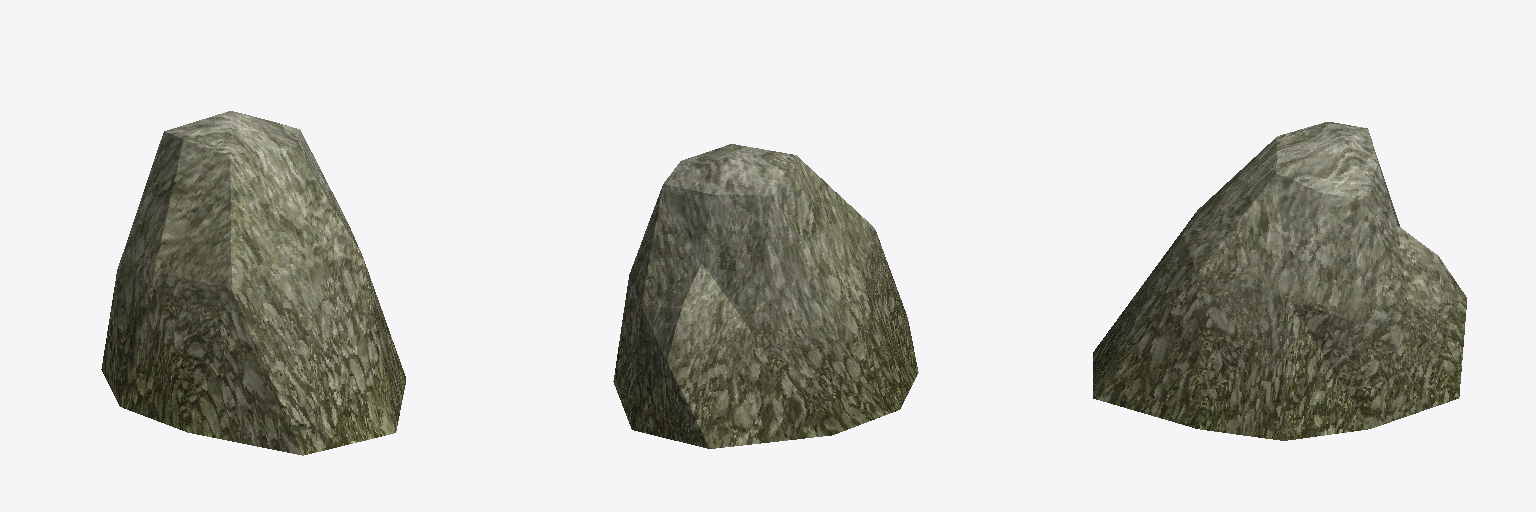
3 views of the same model, side by side, from view 1: azimuth 30°, elevation 25°; view 2: azimuth 150°, elevation 25°; view 3: azimuth 270°, elevation 25° (orthographic).
Parts seen in each view (by area): view 1: object 1; view 2: object 1; view 3: object 1.
Part boxes in pixels (bbox=[...]): object 1: bbox=[101, 111, 405, 455]; object 1: bbox=[613, 144, 918, 448]; object 1: bbox=[1093, 122, 1466, 440].
Size of the model in its own units: 15.87 by 13.57 by 19.25.
1 materials, 1 textured.